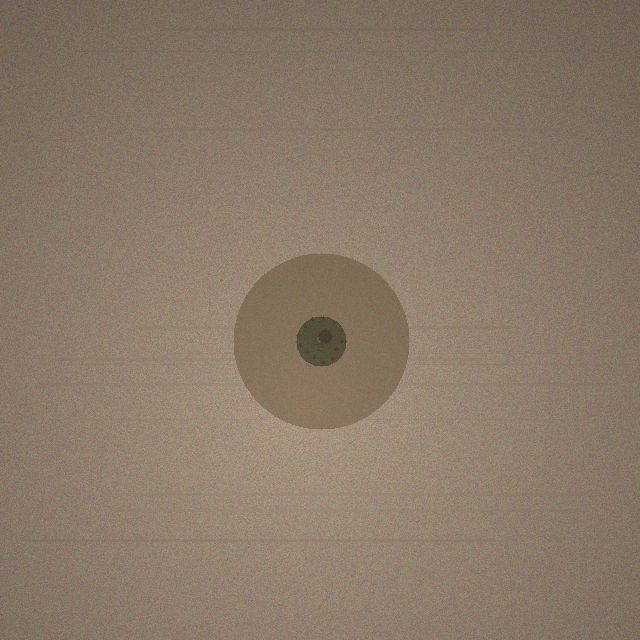cold_weld: (233, 253, 409, 429)
